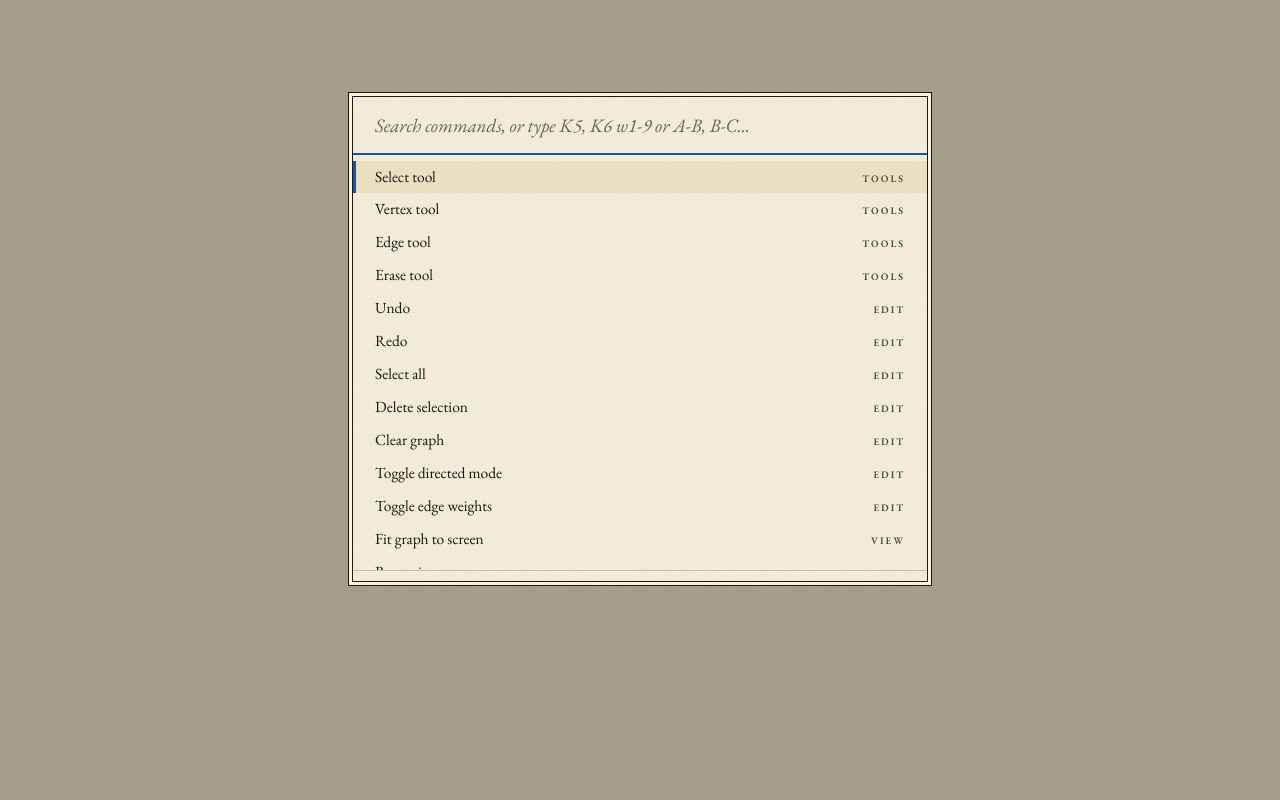
Test: the command palette › runs a command whose name reads like an edge, rather than adding vertices
Type "bellman-ford" into the dropdown named "Command search" at (640, 126), box top-left (353, 97), bottom-right (927, 154)
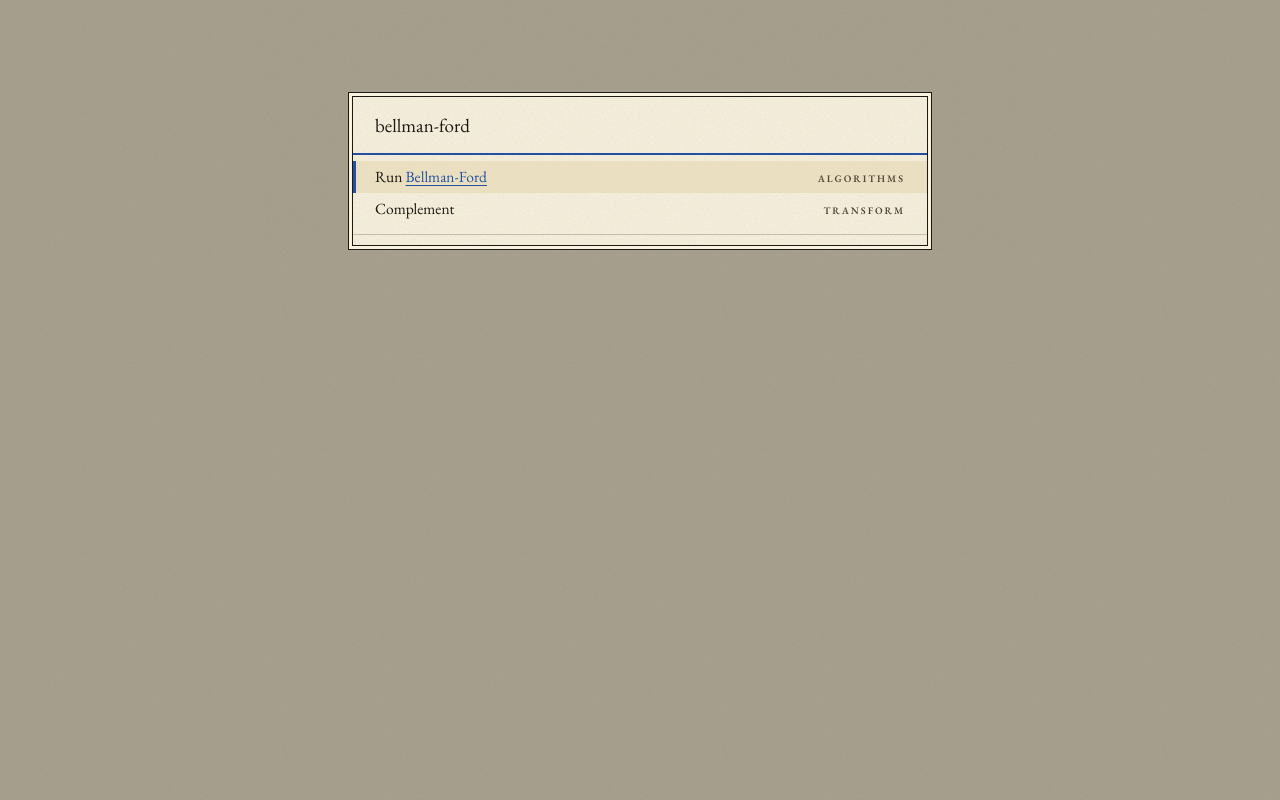
Expected: the option "Run Bellman-Ford Algorithms" is shown, top-left (353, 160), bottom-right (927, 193)
